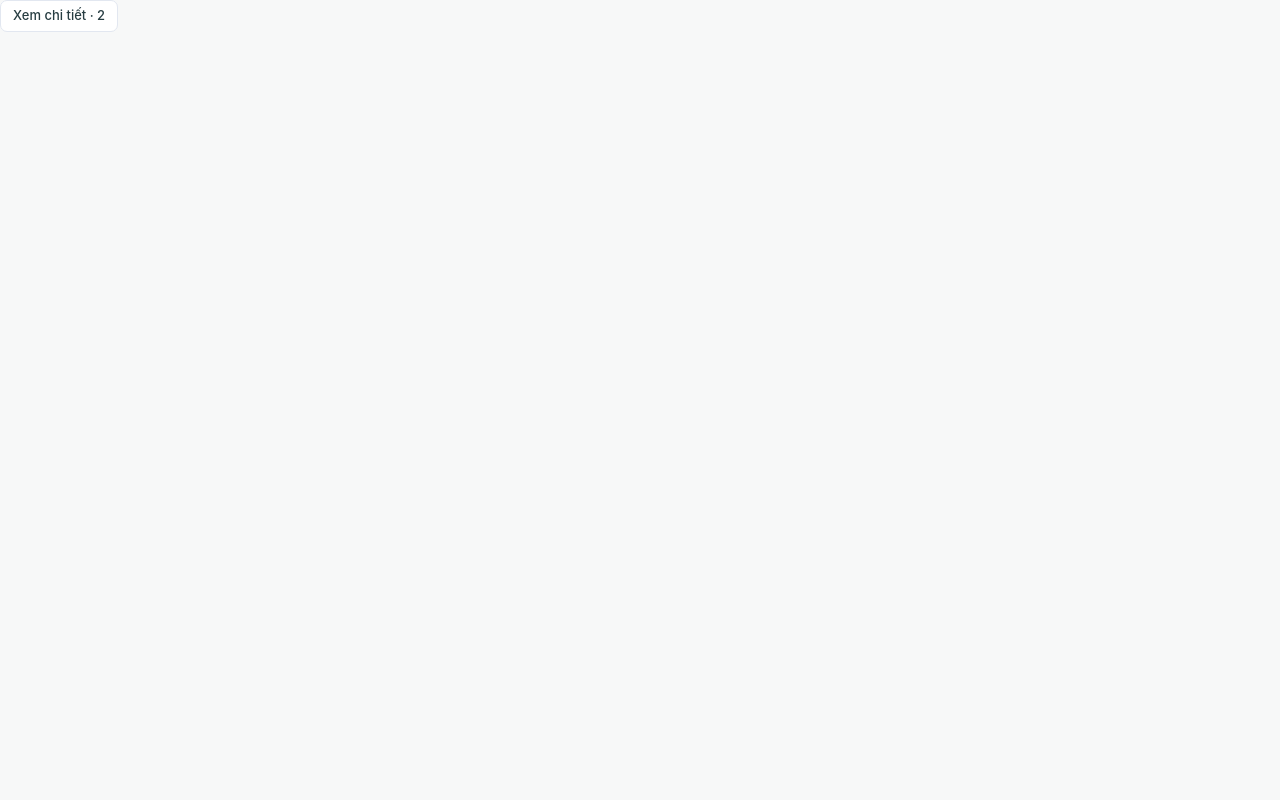
it: JobActivity › shows batch and reason, retries the batch ids and deletes extra cues after a confirm
Later steps or results of the test are not shown.
Click the button "Xem chi tiết · 2" at (59,16), box top-left (0, 0), bottom-right (118, 32)
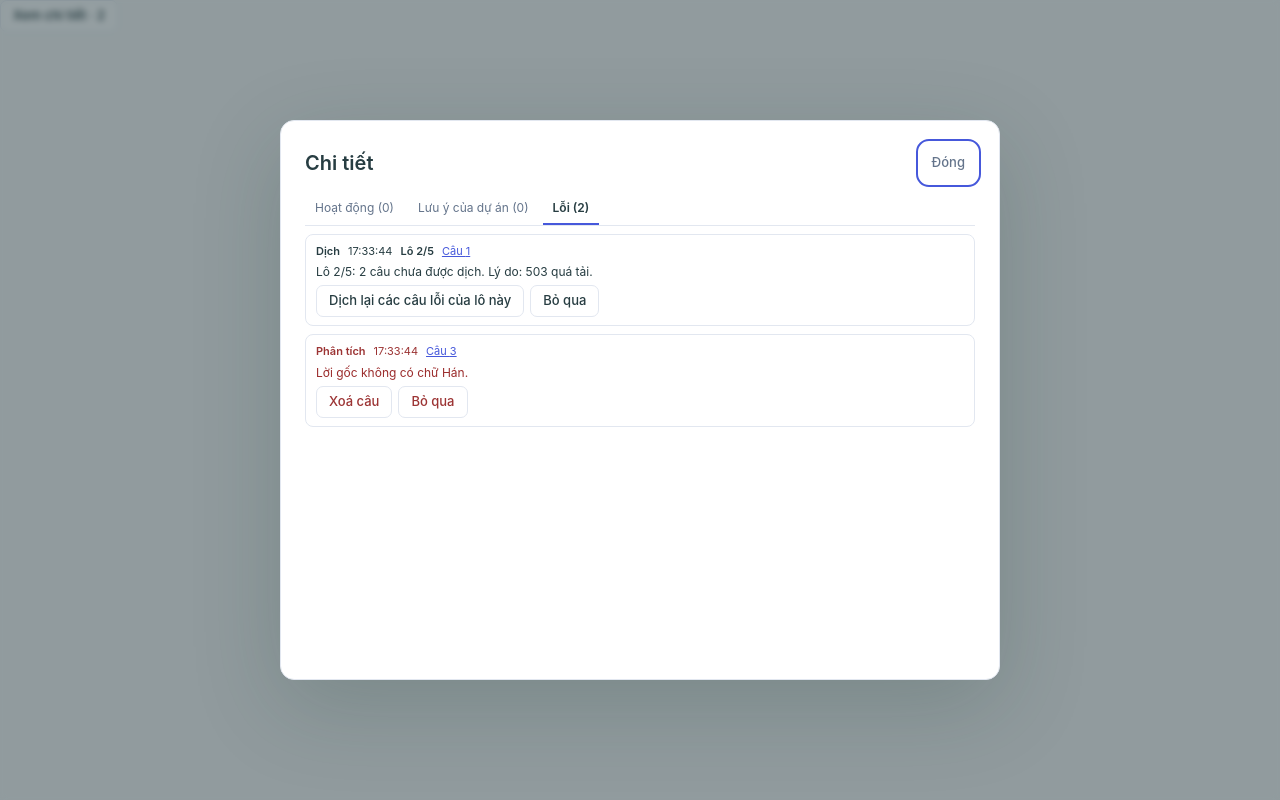
Check: the text "Lô 2/5" is shown, box top-left (400, 242), bottom-right (434, 259)
